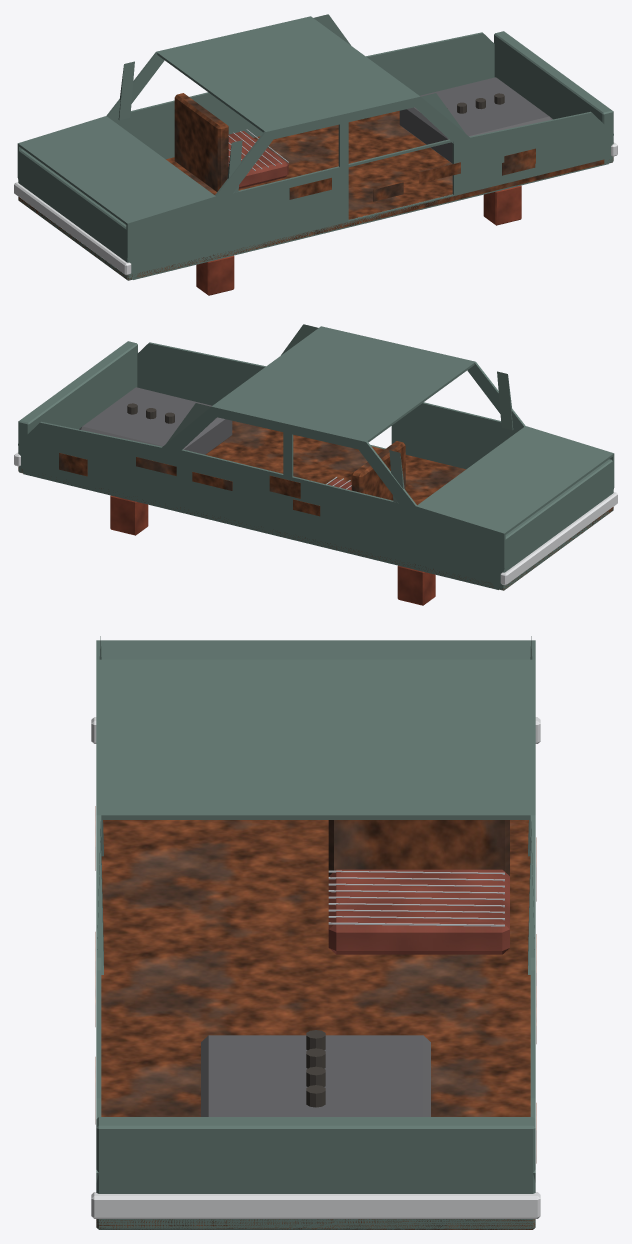
The model's file is carcaca_carro.glb.
The picture shows the model from 3 angles, top to bottom: view 1: azimuth 30°, elevation 25°; view 2: azimuth 150°, elevation 25°; view 3: azimuth 270°, elevation 25°; orthographic projection. The views are drawn at different scales.
Parts seen in each view (by area): view 1: carcaca_carro_pintura_carro, carcaca_carro_ferrugem, carcaca_carro_esmalte_escuro, carcaca_carro_tijolo, carcaca_carro_cromo, carcaca_carro_tecido_cadeira; view 2: carcaca_carro_pintura_carro, carcaca_carro_ferrugem, carcaca_carro_esmalte_escuro, carcaca_carro_tijolo, carcaca_carro_cromo; view 3: carcaca_carro_pintura_carro, carcaca_carro_ferrugem, carcaca_carro_esmalte_escuro, carcaca_carro_tecido_cadeira, carcaca_carro_cromo, carcaca_carro_aco, carcaca_carro_graxa.
Boxes of the visible parts, bbox=[...] form: carcaca_carro_pintura_carro: bbox=[17, 14, 613, 280]; carcaca_carro_ferrugem: bbox=[18, 93, 613, 279]; carcaca_carro_esmalte_escuro: bbox=[399, 77, 552, 163]; carcaca_carro_tijolo: bbox=[196, 185, 521, 295]; carcaca_carro_cromo: bbox=[14, 142, 617, 275]; carcaca_carro_tecido_cadeira: bbox=[228, 131, 288, 188]; carcaca_carro_pintura_carro: bbox=[18, 324, 614, 590]; carcaca_carro_ferrugem: bbox=[18, 421, 613, 590]; carcaca_carro_esmalte_escuro: bbox=[79, 387, 232, 454]; carcaca_carro_tijolo: bbox=[110, 495, 435, 605]; carcaca_carro_cromo: bbox=[14, 452, 617, 585]; carcaca_carro_pintura_carro: bbox=[96, 636, 535, 1229]; carcaca_carro_ferrugem: bbox=[95, 806, 536, 1229]; carcaca_carro_esmalte_escuro: bbox=[201, 1035, 430, 1116]; carcaca_carro_tecido_cadeira: bbox=[328, 869, 509, 954]; carcaca_carro_cromo: bbox=[91, 717, 540, 1218]; carcaca_carro_aco: bbox=[328, 870, 504, 926]; carcaca_carro_graxa: bbox=[306, 1030, 325, 1107].
Bounding box in the file's own units: 4.46 × 1.3 × 1.76.
Materials: 8 (3 with a texture image).
